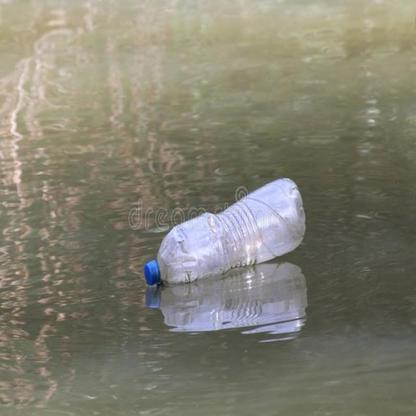plastic bottle: (145, 178, 306, 282)
